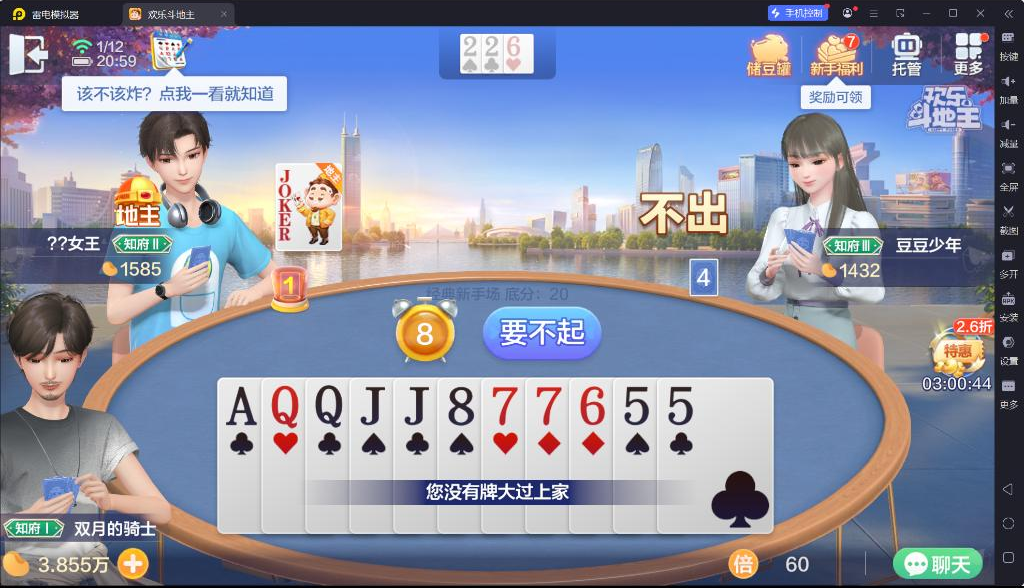A: (222, 384, 260, 431)
J: (399, 385, 431, 427), (356, 384, 386, 427)
JOKER: (276, 167, 296, 216)
Q: (267, 383, 302, 431), (311, 382, 345, 429)
eight: (444, 384, 478, 428)
five: (618, 381, 652, 427), (666, 381, 696, 427)
seven: (529, 383, 565, 427), (486, 383, 520, 428)
six: (575, 383, 609, 427), (506, 35, 522, 57)
two: (462, 35, 478, 58), (484, 36, 501, 57)
